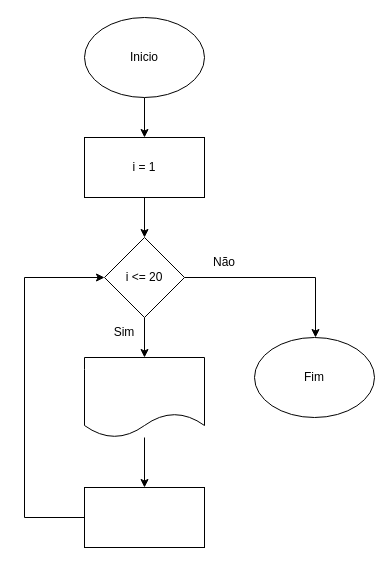
This 392x565 diagram has some shape labels left out. Here are the shapes that lost their labels. From the top down, the centre of each, then its label:
At point 144,397: "Eu amo estudar programação".
At point 144,517: "i++".
